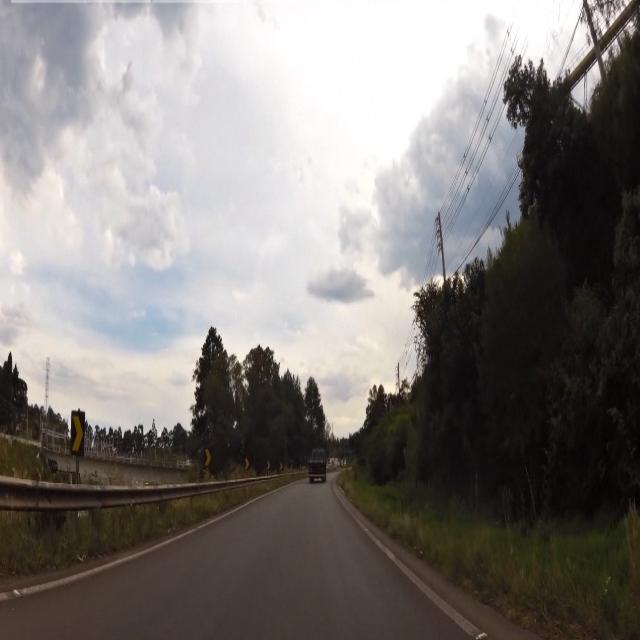Del: (72, 410, 86, 454)
